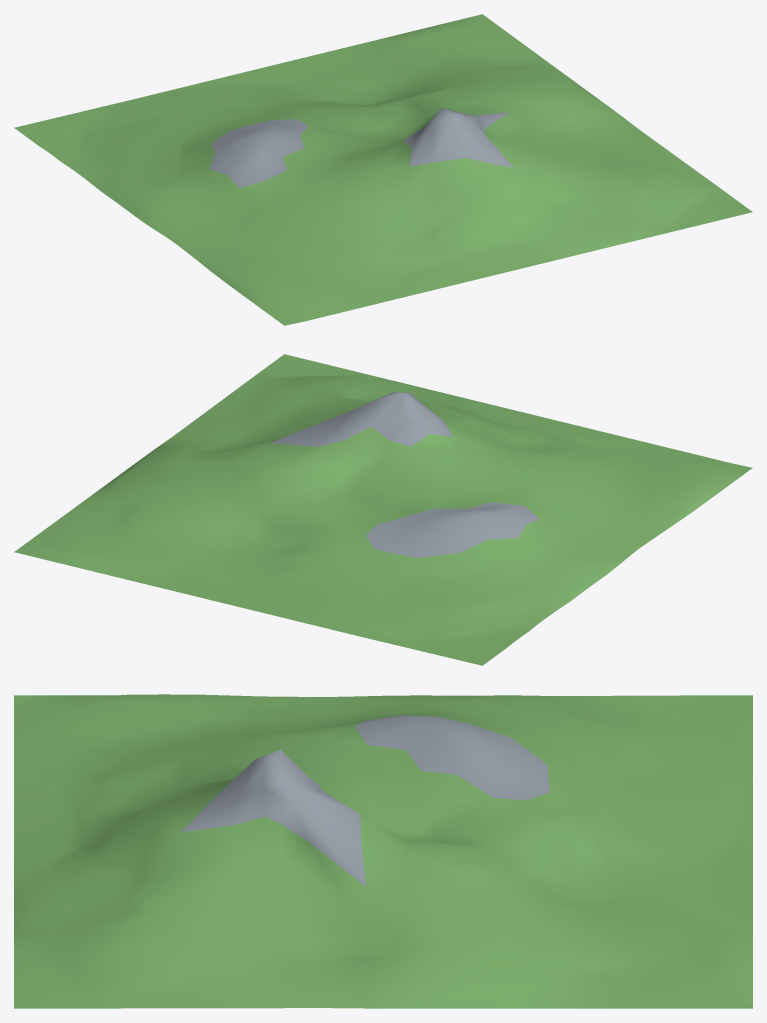
The model's file is SM_Mountains_14.obj.
The picture shows the model from 3 angles, top to bottom: view 1: azimuth 30°, elevation 25°; view 2: azimuth 150°, elevation 25°; view 3: azimuth 270°, elevation 25°; orthographic projection. The views are drawn at different scales.
Visible parts, largest first — view 1: SM_Mountains_14; view 2: SM_Mountains_14; view 3: SM_Mountains_14.
Boxes of the visible parts, x1,y1,x2,y2 form: SM_Mountains_14: (14,14,752,325); SM_Mountains_14: (14,354,752,665); SM_Mountains_14: (14,694,752,1008).
Size of the model in its own units: 27.1 by 4.69 by 27.1.
Materials: 1 (1 with a texture image).
